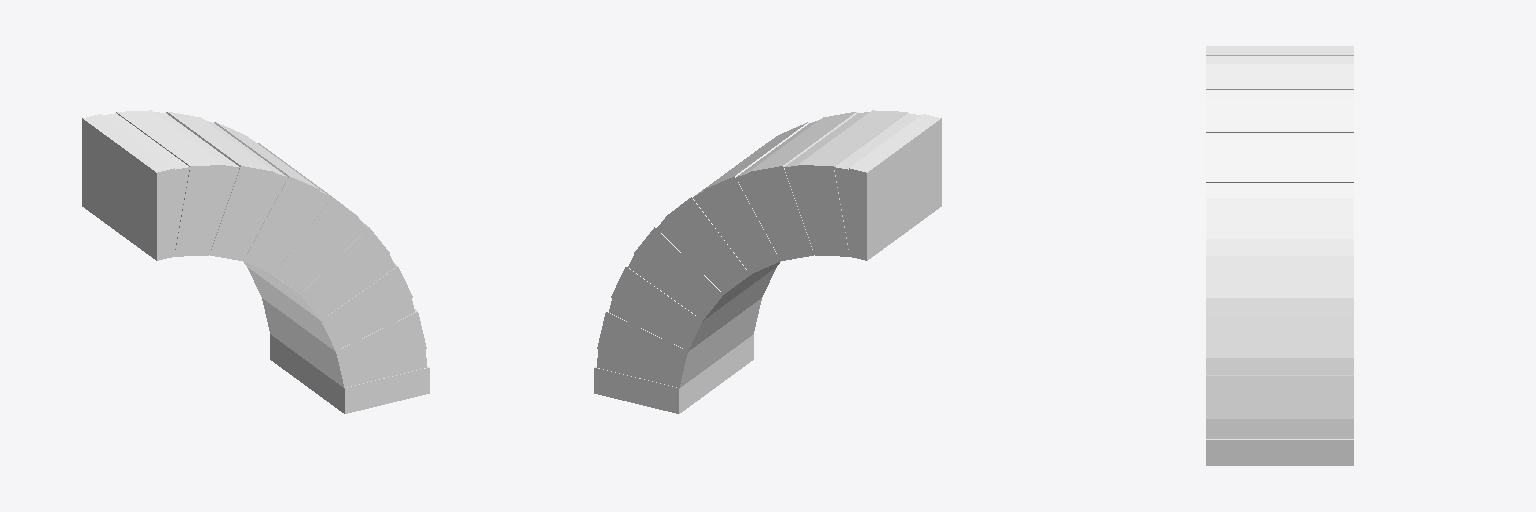
Rendered from mt_arch_large.obj.
3 views of the same model, side by side, from view 1: azimuth 30°, elevation 25°; view 2: azimuth 150°, elevation 25°; view 3: azimuth 270°, elevation 25° (orthographic).
Parts seen in each view (by area): view 1: cube; view 2: cube; view 3: cube.
Boxes of the visible parts, <box> form: cube: <box>82,110,429,413</box>; cube: <box>594,110,941,413</box>; cube: <box>1206,46,1353,465</box>.
Bounding box in the file's own units: 2.15 × 2.17 × 1.02.